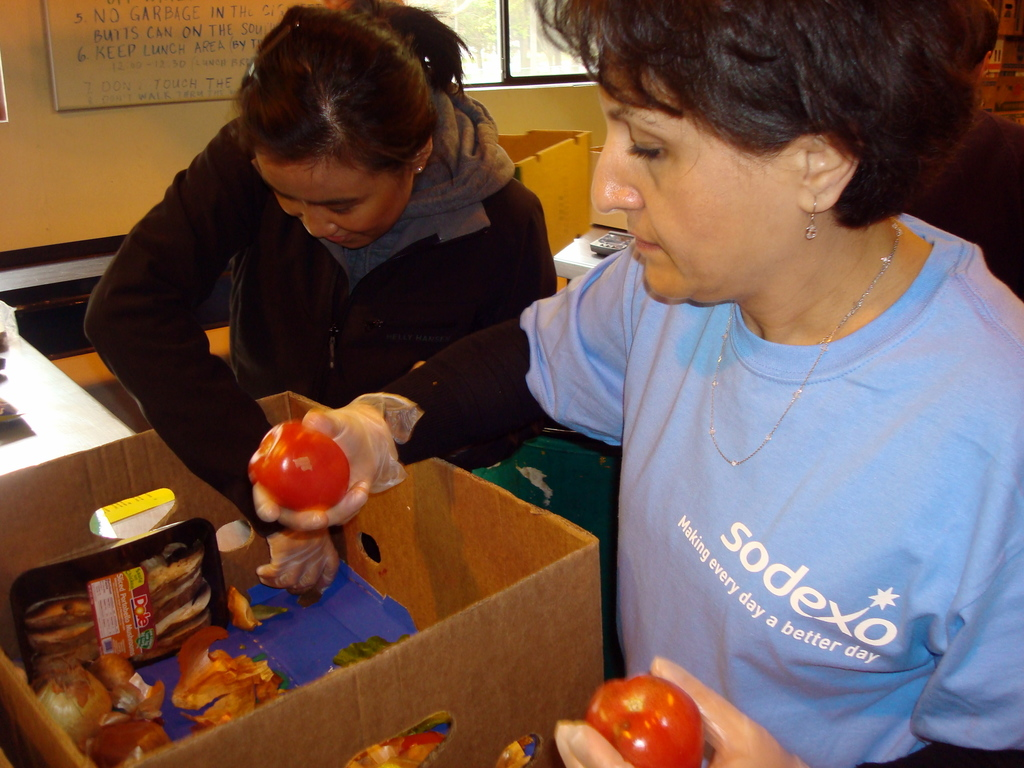Tomato: (586, 676, 706, 767), (246, 421, 350, 515)
